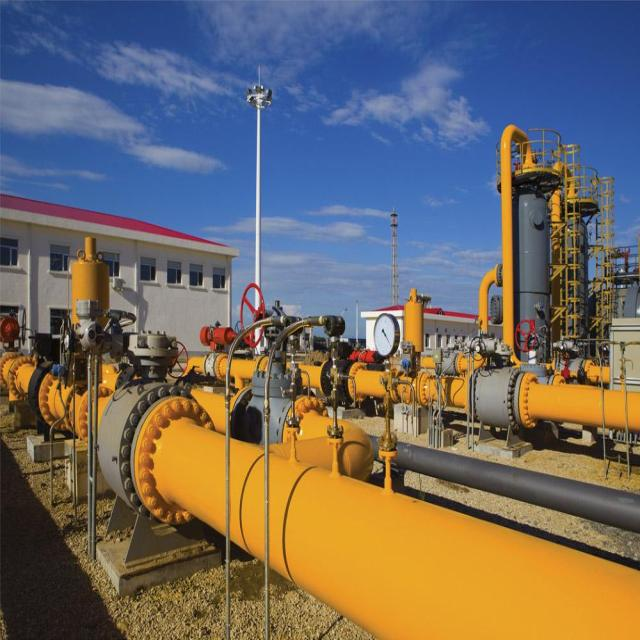gas: (10, 358, 640, 640), (200, 356, 638, 429), (373, 434, 640, 528), (499, 139, 512, 337)
